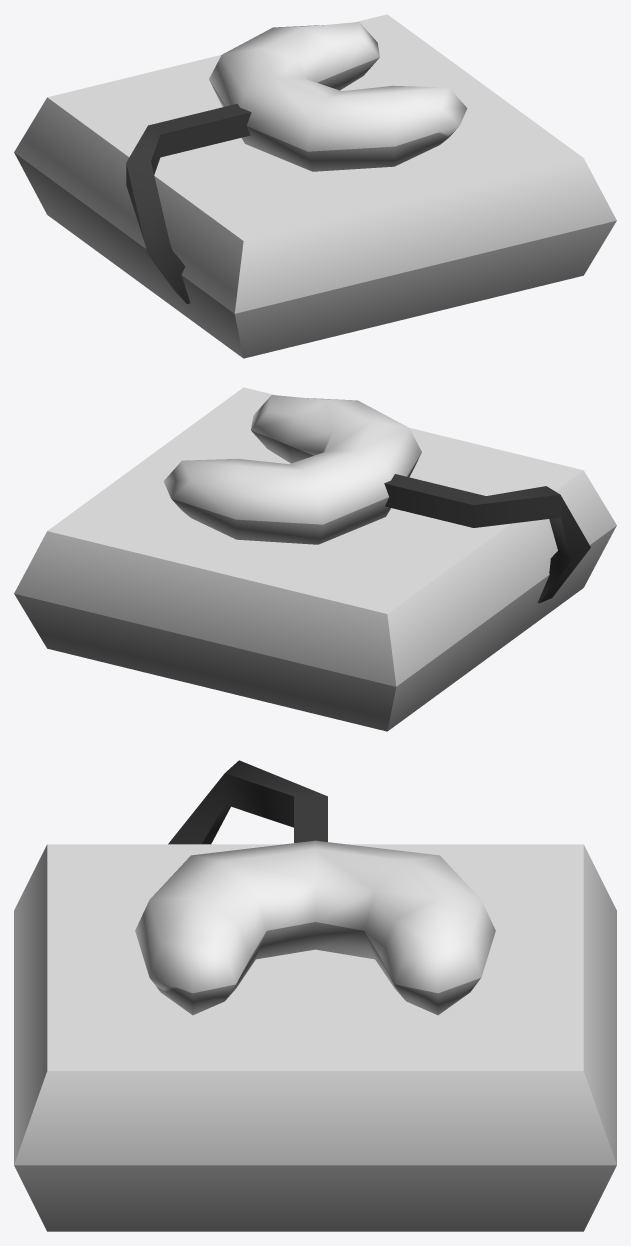
Rendered from GameConsole.fbx.
3 views of the same model, one above another, from view 1: azimuth 30°, elevation 25°; view 2: azimuth 150°, elevation 25°; view 3: azimuth 270°, elevation 25° (orthographic). The views are drawn at different scales.
Visible parts, largest first — view 1: GameConsole; view 2: GameConsole; view 3: GameConsole.
Part boxes in pixels (x1,y1,x2,y2): GameConsole: (14,14,616,358); GameConsole: (14,387,616,731); GameConsole: (14,760,616,1231).
Bounding box in the file's own units: 0.0331 × 0.0136 × 0.0306.
1 material, 1 textured.
